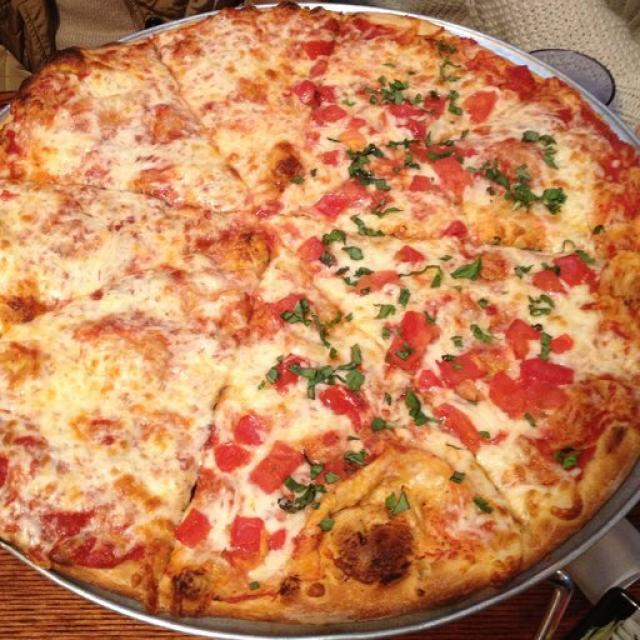Basil: (493, 164, 557, 207), (347, 148, 372, 177), (457, 264, 480, 280), (343, 244, 365, 260)
Cheese: (52, 349, 188, 460), (80, 98, 182, 176), (34, 210, 179, 258), (210, 58, 282, 152)
Pizza: (0, 4, 640, 628)
Tomato: (503, 360, 574, 422), (315, 174, 376, 218), (299, 77, 346, 132), (392, 312, 432, 374), (435, 350, 490, 389), (430, 148, 472, 196), (257, 442, 298, 489), (172, 507, 212, 546), (213, 437, 250, 476), (267, 359, 309, 390), (232, 514, 264, 552), (232, 413, 258, 439)
